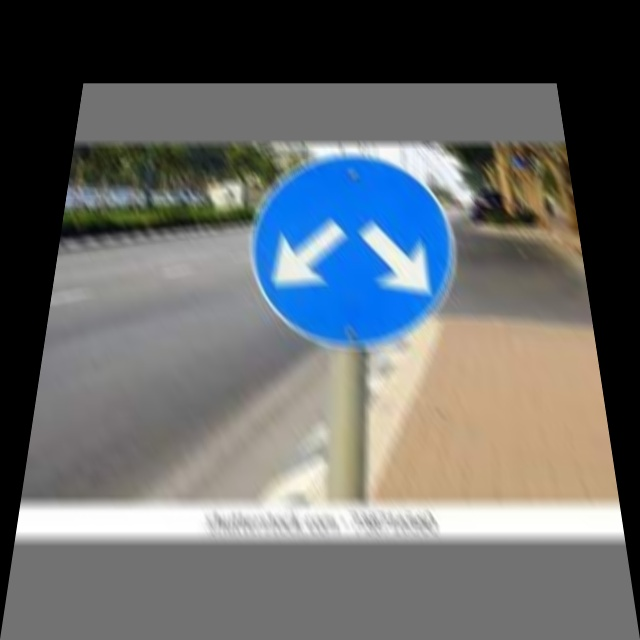Pass_Either_Side: (245, 153, 464, 347)
